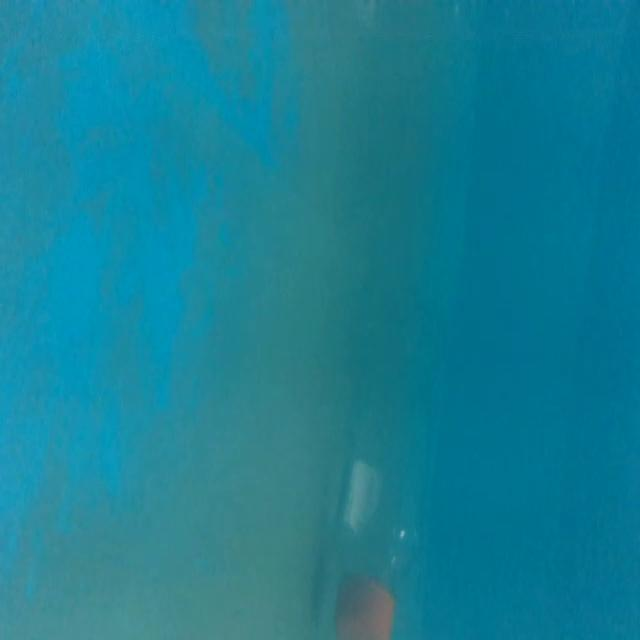plastic bottle: (328, 314, 432, 640)
